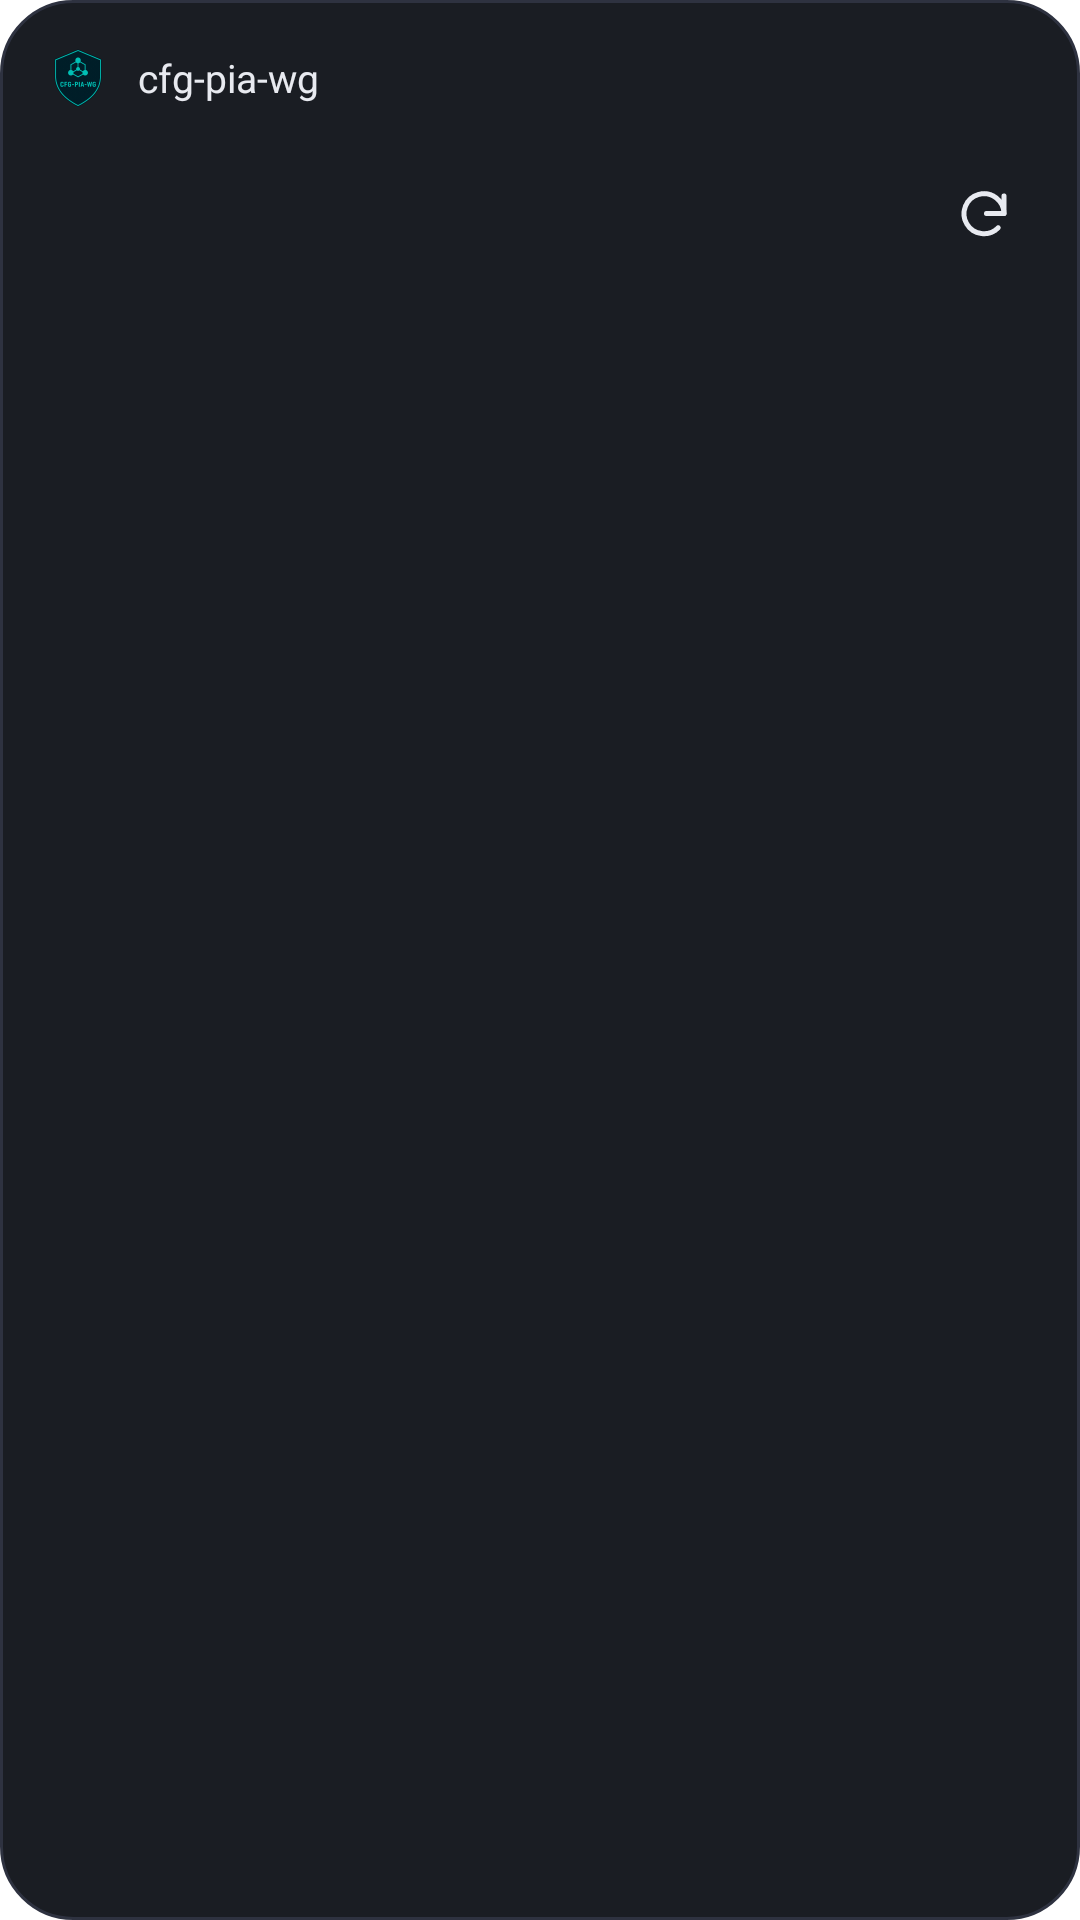

Point at icon controls on the screen. Image size 1080*1920, points as (x=x, y=y).
Check the router now: (x=984, y=214)
